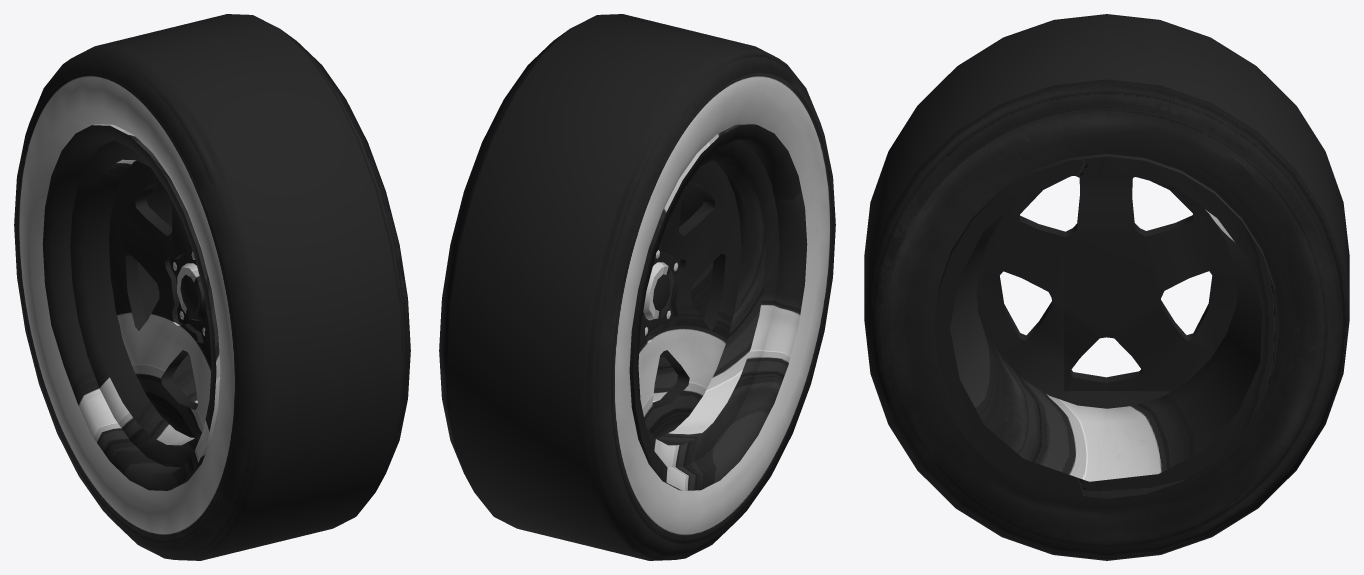
File: WheelRL.obj
The picture shows the model from 3 angles, left to right: view 1: azimuth 30°, elevation 25°; view 2: azimuth 150°, elevation 25°; view 3: azimuth 270°, elevation 25°; orthographic projection.
Visible parts, largest first — view 1: Wheel_RR; view 2: Wheel_RR; view 3: Wheel_RR.
Boxes of the visible parts, left/top/right/bottom form: Wheel_RR: left=14, top=14, right=410, bottom=560; Wheel_RR: left=439, top=14, right=835, bottom=560; Wheel_RR: left=864, top=14, right=1349, bottom=560.
Bounding box in the file's own units: 5.11 × 13.85 × 12.65.
1 material, 1 textured.
